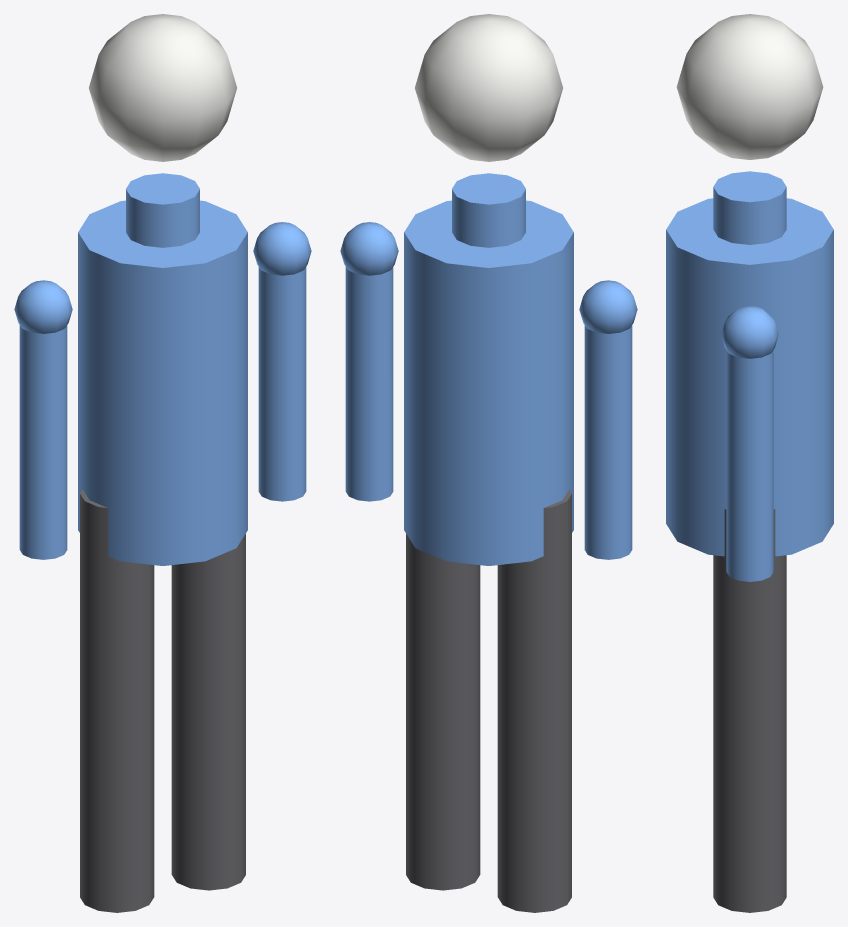
File: Mannequin.fbx
3 views of the same model, side by side, from view 1: azimuth 30°, elevation 25°; view 2: azimuth 150°, elevation 25°; view 3: azimuth 270°, elevation 25° (orthographic).
Visible parts, largest first — view 1: LOD0; view 2: LOD0; view 3: LOD0.
Boxes of the visible parts, x1,y1,x2,y2 form: LOD0: (14, 14, 311, 912); LOD0: (340, 14, 637, 912); LOD0: (666, 14, 833, 912).
Size of what is drawn, in the model's own units: 63 by 180 by 32.
